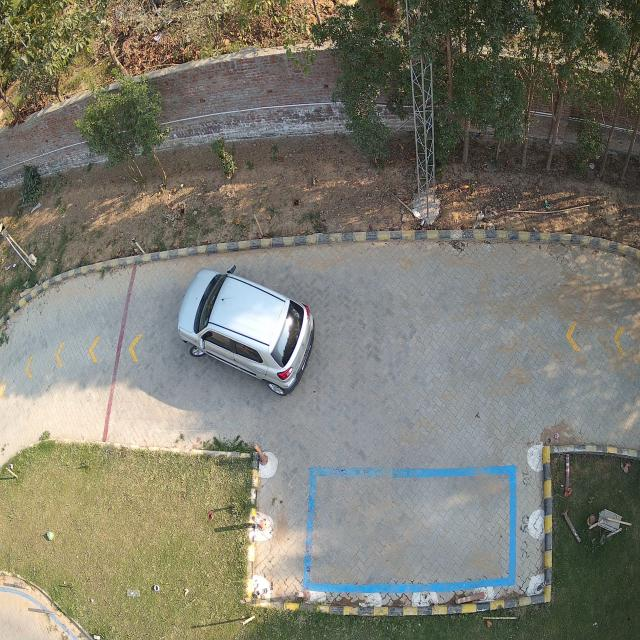car: (176, 272, 314, 396)
